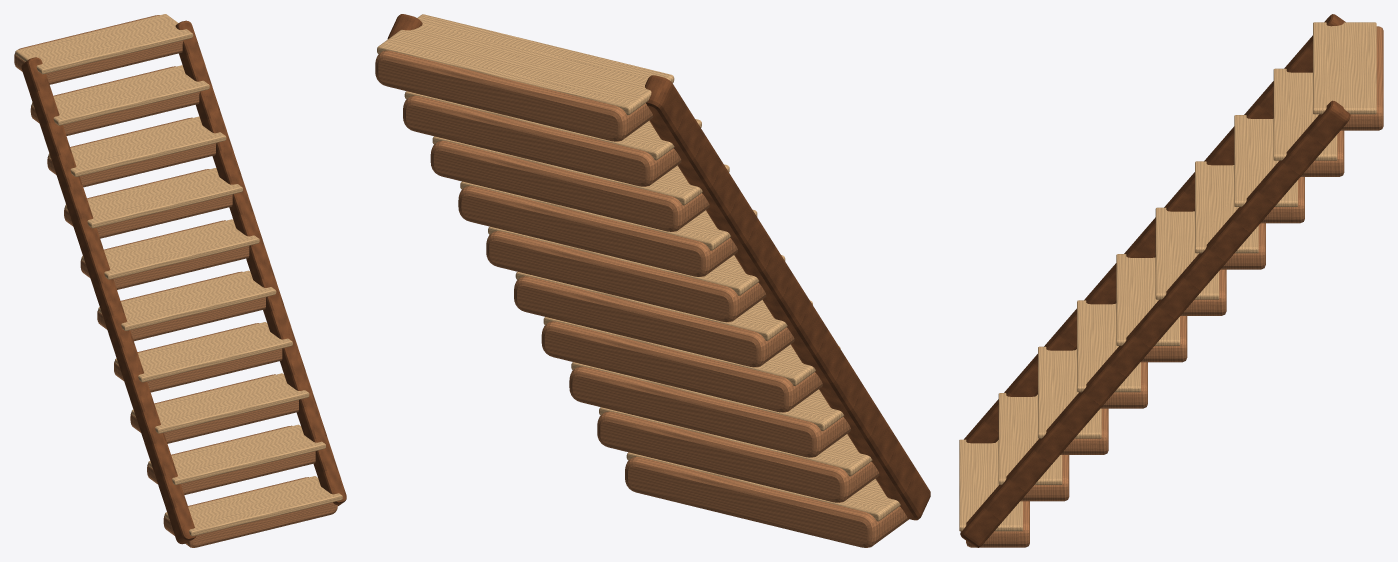
File: stairs.glb
The picture shows the model from 3 angles, left to right: view 1: azimuth 30°, elevation 25°; view 2: azimuth 150°, elevation 25°; view 3: azimuth 270°, elevation 25°; orthographic projection. The views are drawn at different scales.
Visible parts, largest first — view 1: stairs; view 2: stairs; view 3: stairs.
Boxes of the visible parts, bbox=[...] form: stairs: bbox=[14, 14, 346, 547]; stairs: bbox=[375, 14, 930, 547]; stairs: bbox=[959, 14, 1383, 547].
Size of the model in its own units: 0.834 by 1.84 by 1.58.
Materials: 3 (3 with a texture image).
